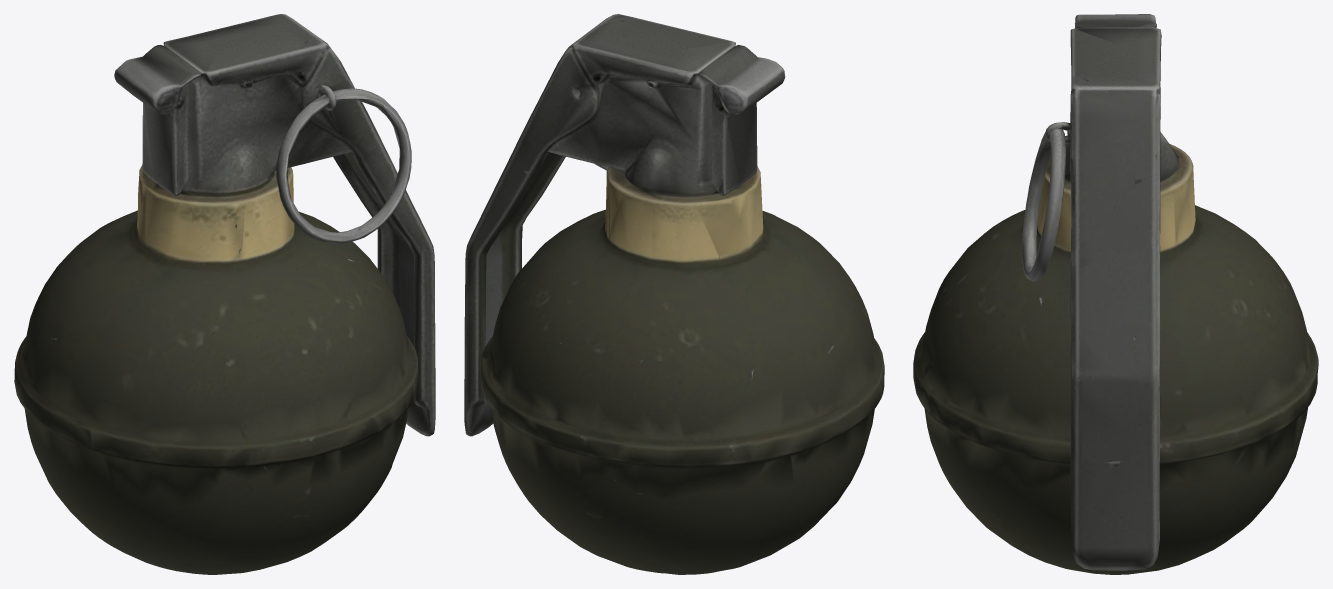
The picture shows the model from 3 angles, left to right: view 1: azimuth 30°, elevation 25°; view 2: azimuth 150°, elevation 25°; view 3: azimuth 270°, elevation 25°; orthographic projection.
Size of the model in its own units: 1.48 by 1.9 by 1.37.
1 material, 1 textured.
